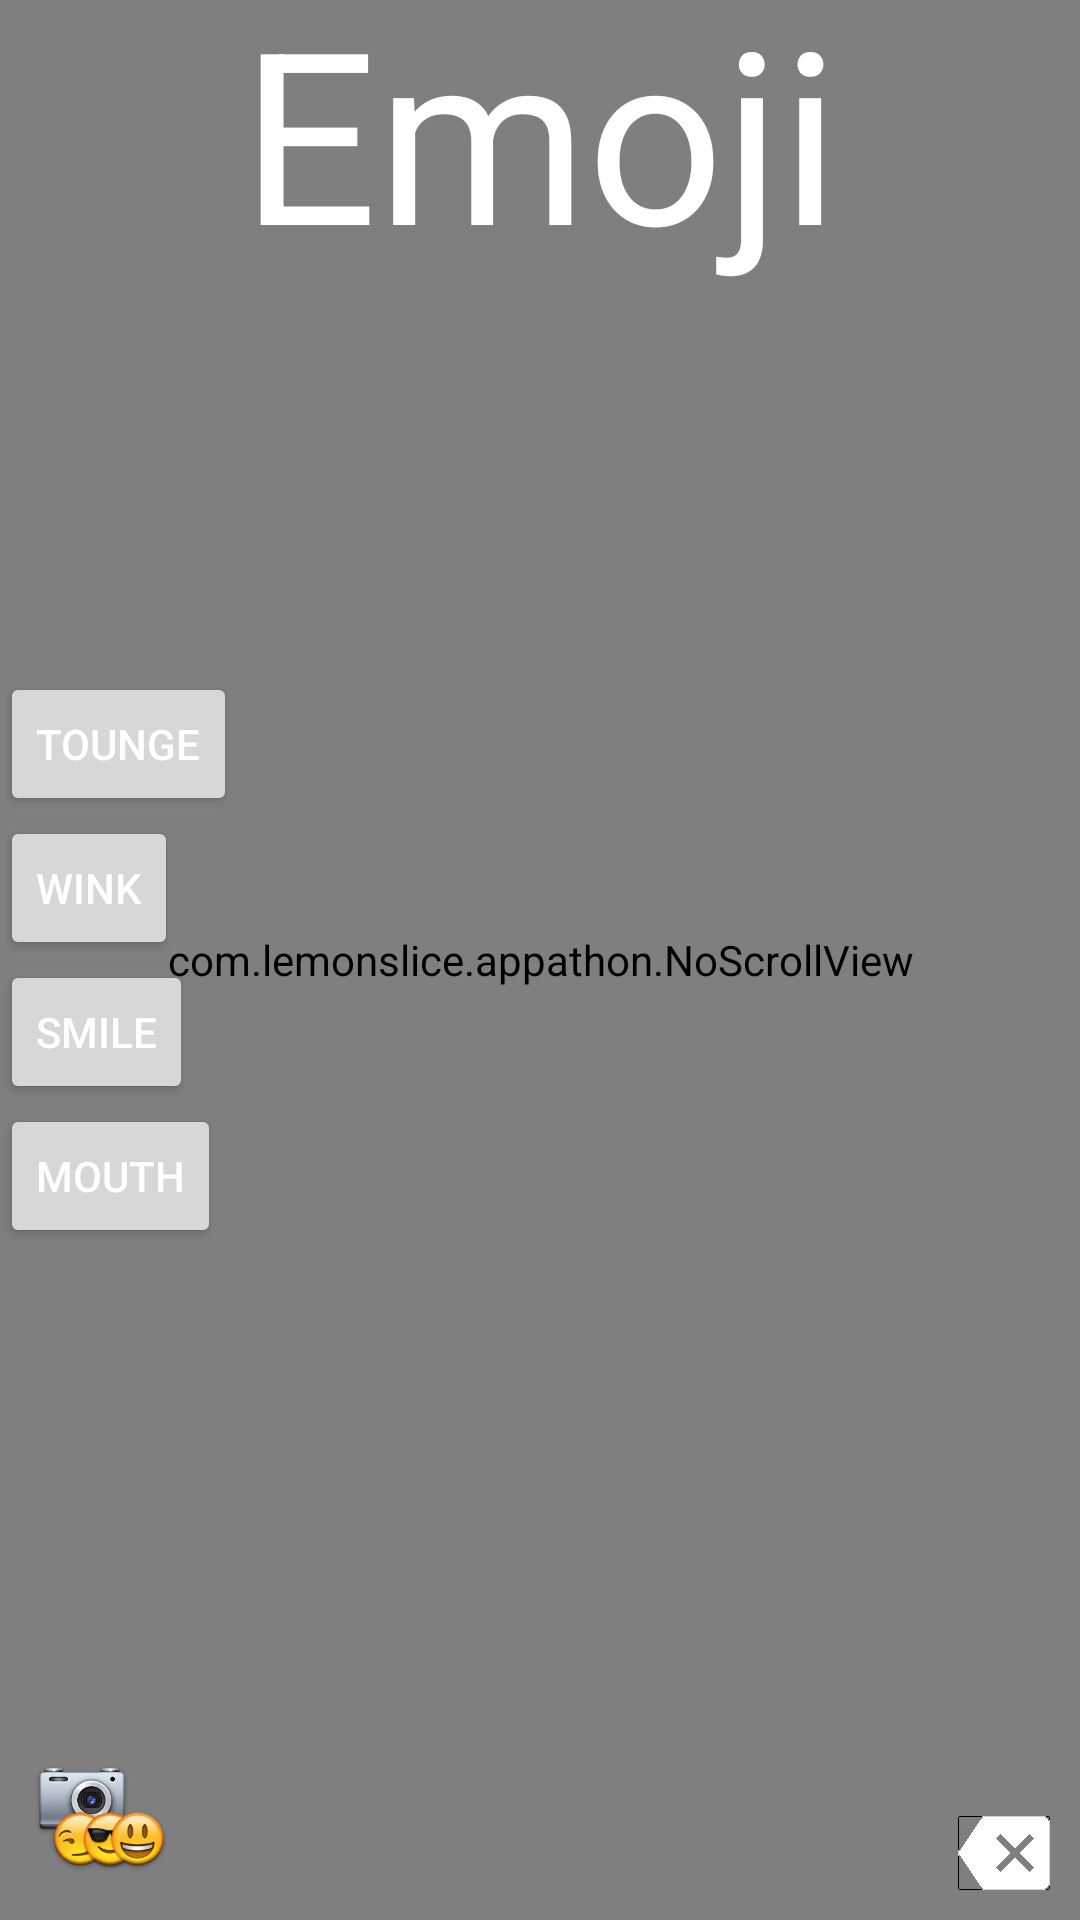

Where to tap for icons on this 1080px x 1920px app screen, as (x,y):
Delete: (1004,1853)
